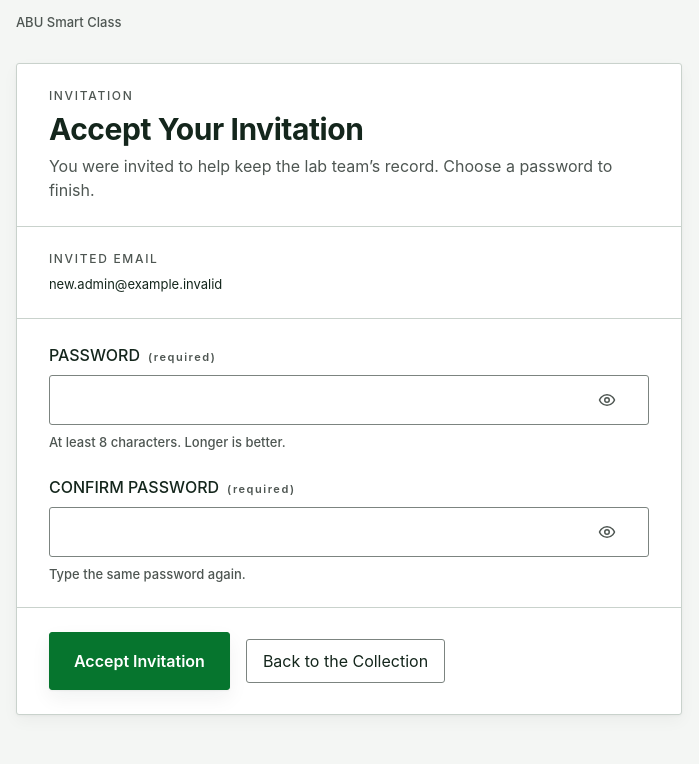
Scenario: app/admin/invite/accept/page (S-007) › handles backend 409 with already-accepted error banner
The image size is (699, 764).
In the password field labelled "PASSWORD": {"x": 349, "y": 400} [49,375,649,425], type "ValidPass123"
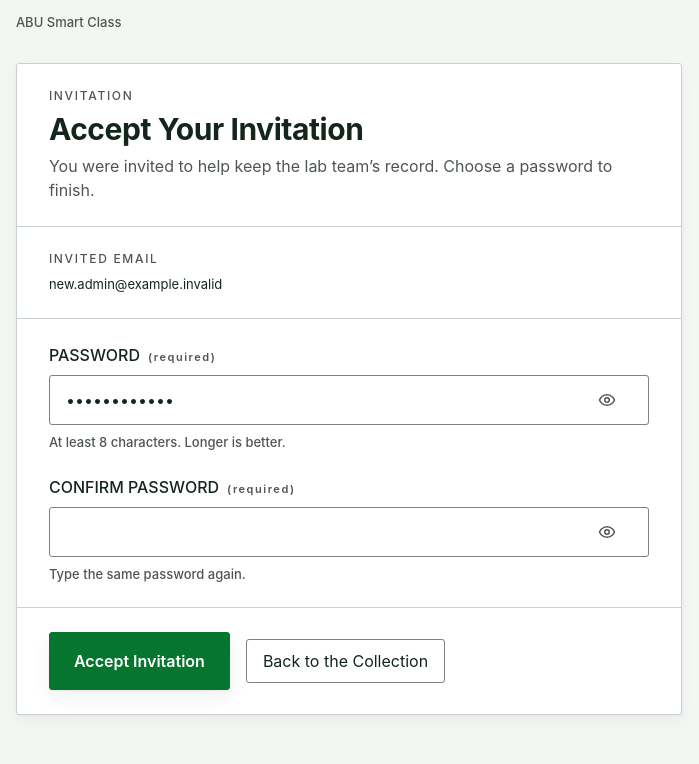
In the password field labelled "CONFIRM PASSWORD": {"x": 349, "y": 532} [49,507,649,557], type "ValidPass123"
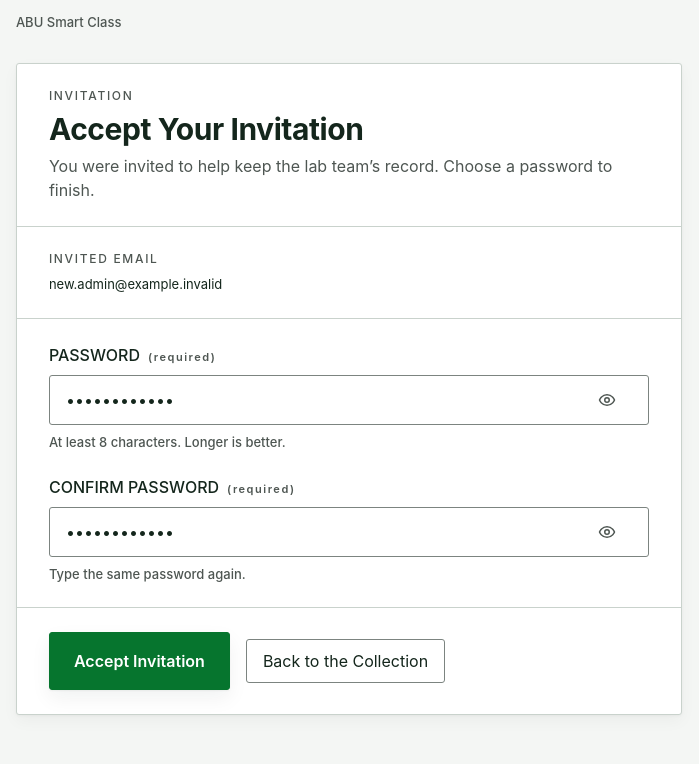
Click the button "Accept Invitation": {"x": 139, "y": 662} [49,632,230,690]
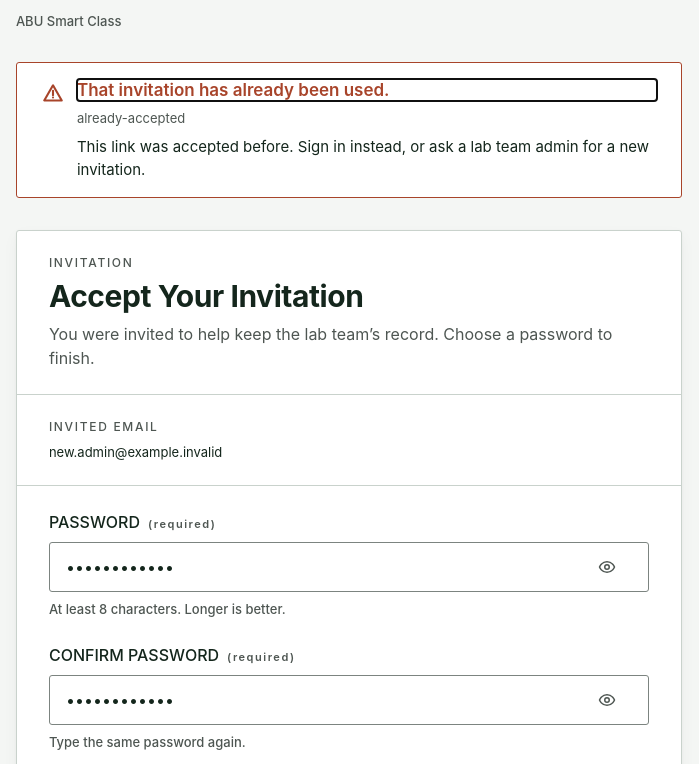
Expected: the heading "That invitation has already been used." is shown, [77,80,390,100]
Expected: the text "already-accepted" is shown, [77,110,185,126]
